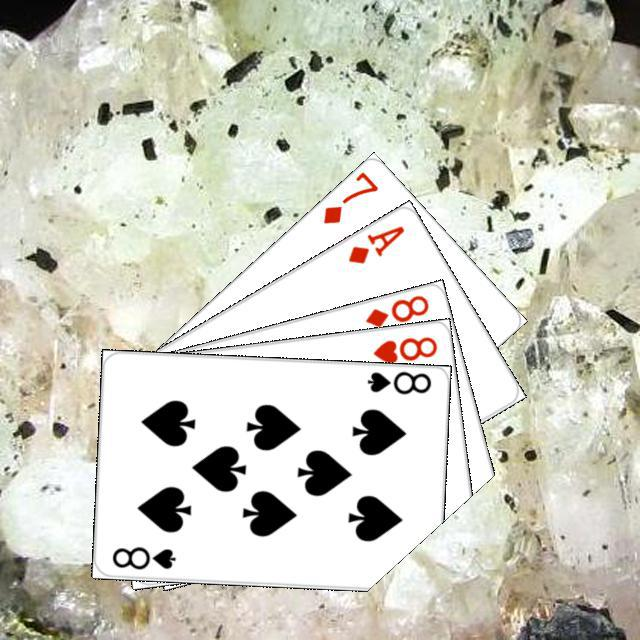7d: (318, 168, 380, 226)
8d: (360, 290, 431, 329)
8h: (368, 331, 439, 366)
8s: (107, 542, 178, 572), (362, 367, 433, 396)
Ad: (343, 220, 407, 266)
